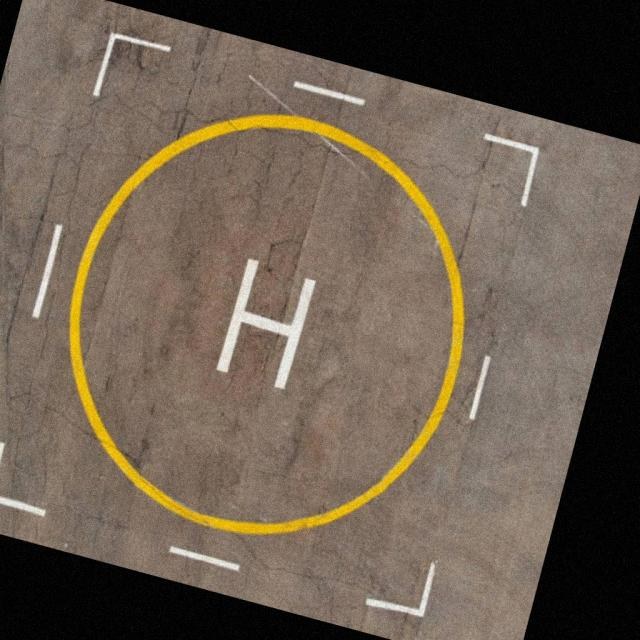helipad: (61, 108, 468, 543)
